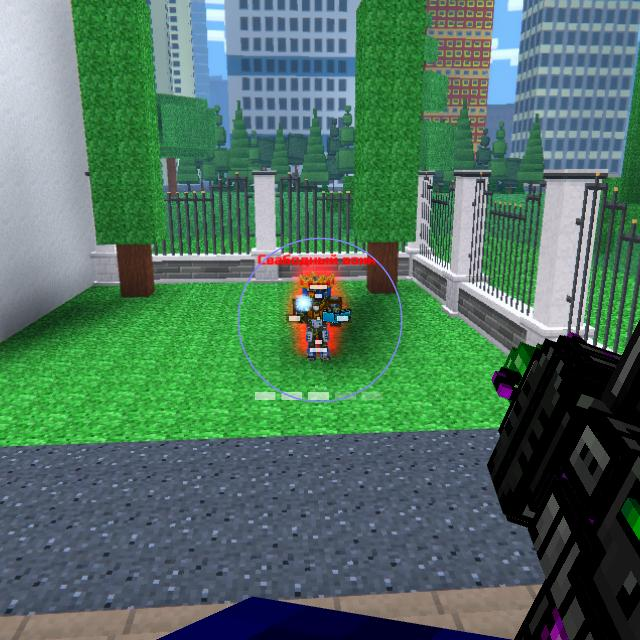Enemy: (290, 276, 346, 360)
